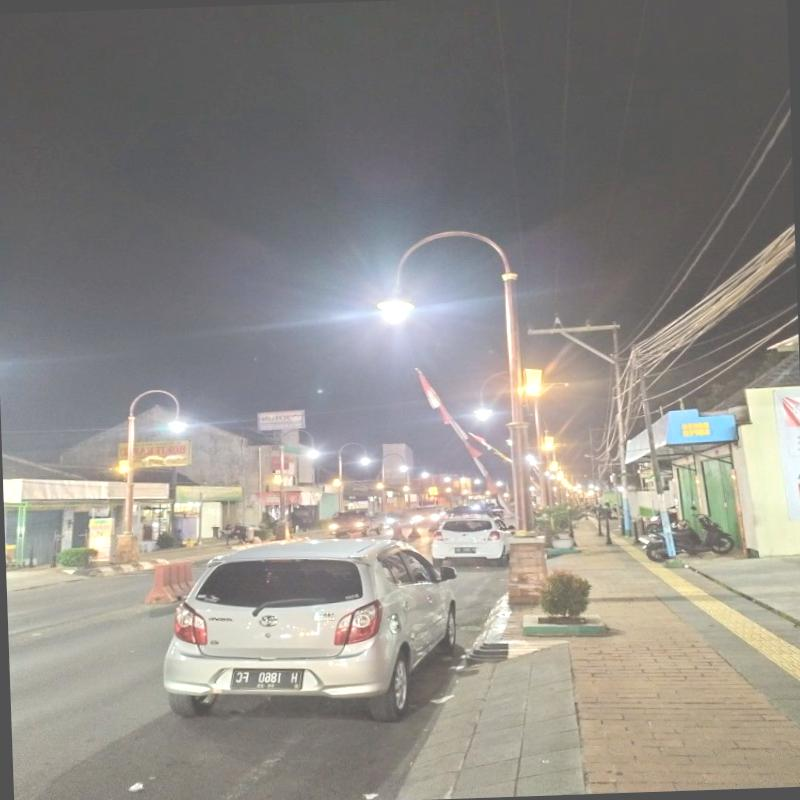license plate on a car: (229, 669, 303, 690), (455, 547, 475, 554)
